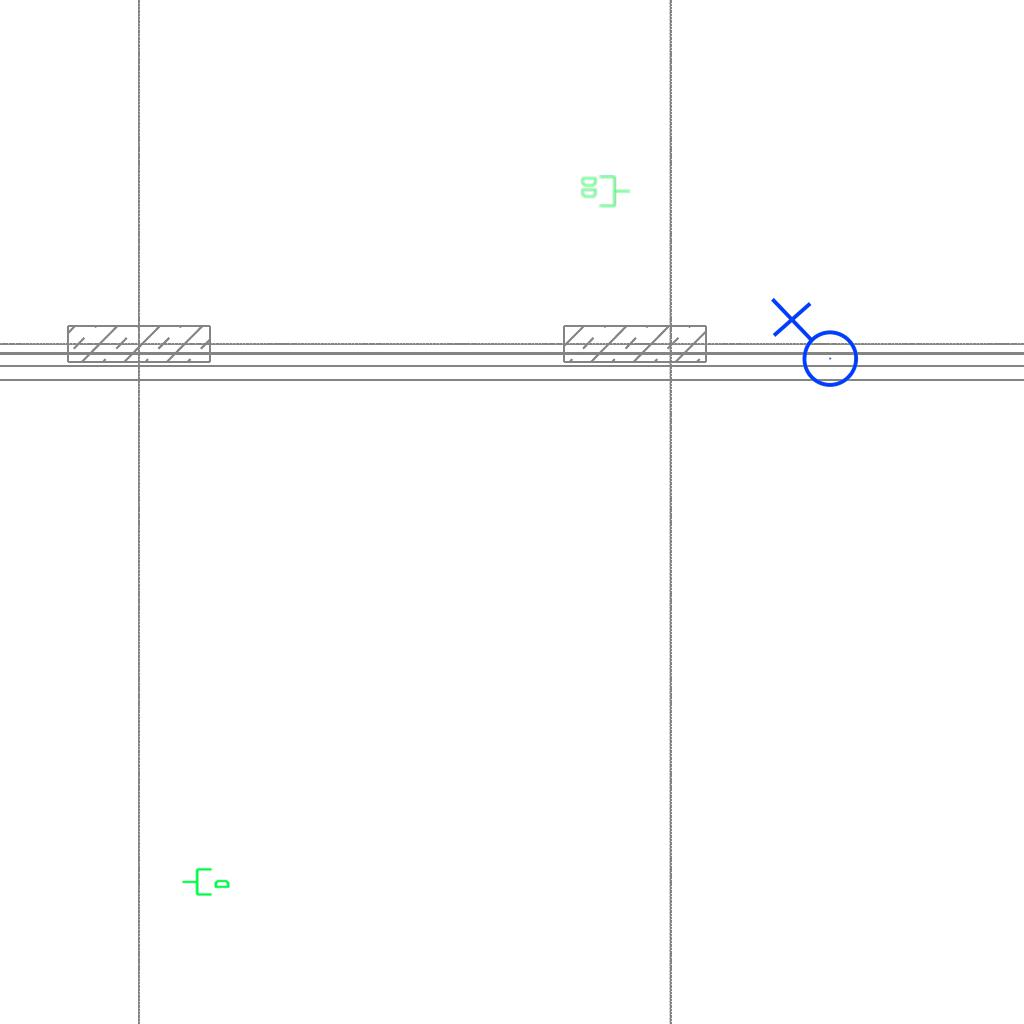Datenanschluss_einfach: (181, 864, 231, 898)
Datenanschluss_zweifach: (580, 174, 631, 208)
Elektroanschluss_allgemein_230V_Geraeteanschlussdose_230V: (766, 297, 860, 396)
